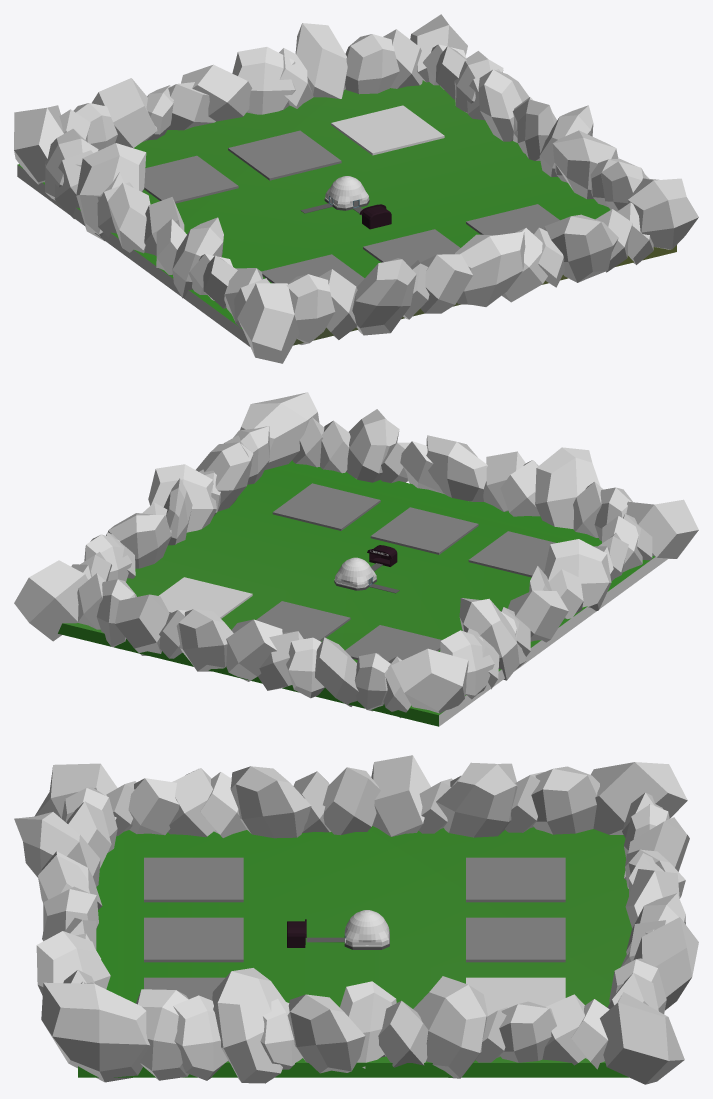
File: The realest Temporary Map.fbx
3 views of the same model, one above another, from view 1: azimuth 30°, elevation 25°; view 2: azimuth 150°, elevation 25°; view 3: azimuth 270°, elevation 25° (orthographic). The views are drawn at different scales.
Visible parts, largest first — view 1: Cube.049, Cube, Cube.073, Cube.070, Cube.072, Cube.074, Cube.075, Cube.076, Cube.067, Cube.065; view 2: Cube.049, Cube, Cube.075, Cube.074, Cube.076, Cube.073, Cube.072, Cube.070, Cube.067; view 3: Cube.049, Cube, Cube.076, Cube.074, Cube.072, Cube.070, Cube.073, Cube.067, Cube.075, Cube.065.
Boxes of the visible parts, <box> form: Cube.049: <box>14,14,698,363</box>; Cube: <box>17,80,676,346</box>; Cube.073: <box>331,105,444,155</box>; Cube.070: <box>228,130,341,180</box>; Cube.072: <box>144,155,238,203</box>; Cube.074: <box>363,229,460,266</box>; Cube.075: <box>466,204,559,234</box>; Cube.076: <box>261,254,364,286</box>; Cube.067: <box>325,176,368,207</box>; Cube.065: <box>359,204,391,229</box>; Cube.049: <box>14,392,698,717</box>; Cube: <box>58,460,668,726</box>; Cube.075: <box>272,483,380,530</box>; Cube.074: <box>370,507,478,554</box>; Cube.076: <box>468,531,555,577</box>; Cube.073: <box>159,577,252,618</box>; Cube.072: <box>345,625,441,661</box>; Cube.070: <box>256,601,350,641</box>; Cube.067: <box>335,557,376,587</box>; Cube.049: <box>14,755,698,1084</box>; Cube: <box>78,826,632,1077</box>; Cube.076: <box>144,857,243,902</box>; Cube.074: <box>144,917,243,962</box>; Cube.072: <box>466,857,565,902</box>; Cube.070: <box>466,917,565,962</box>; Cube.073: <box>466,977,565,1015</box>; Cube.067: <box>345,910,389,945</box>; Cube.075: <box>144,977,224,1000</box>; Cube.065: <box>287,919,306,947</box>.
Size of the model in its own units: 22407 by 3882 by 24109.
